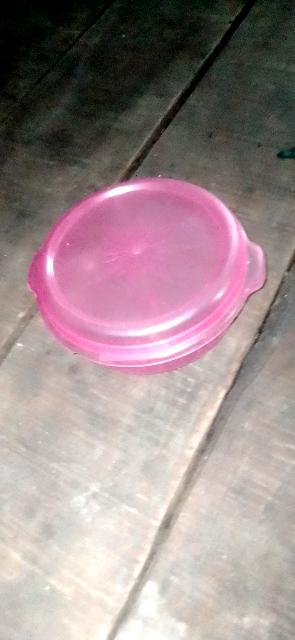hardplastic: (6, 145, 295, 395)
